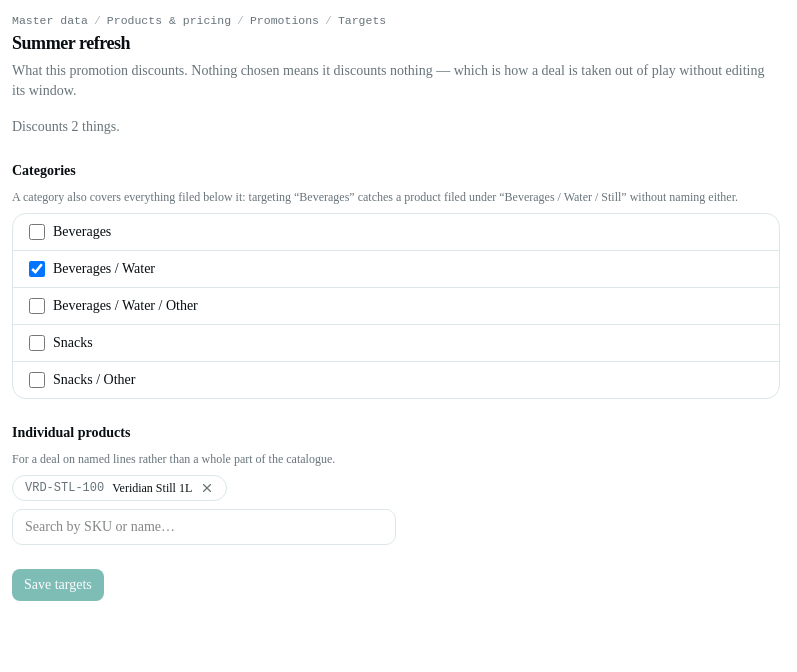
it: <PromotionTargets> › searches the catalogue it already holds rather than asking again
expect the button "Save targets" is shown: met, box [12,569,104,601]
Type "spark" into the search field named "Search products". click: (204, 527)
box: [12,509,396,545]
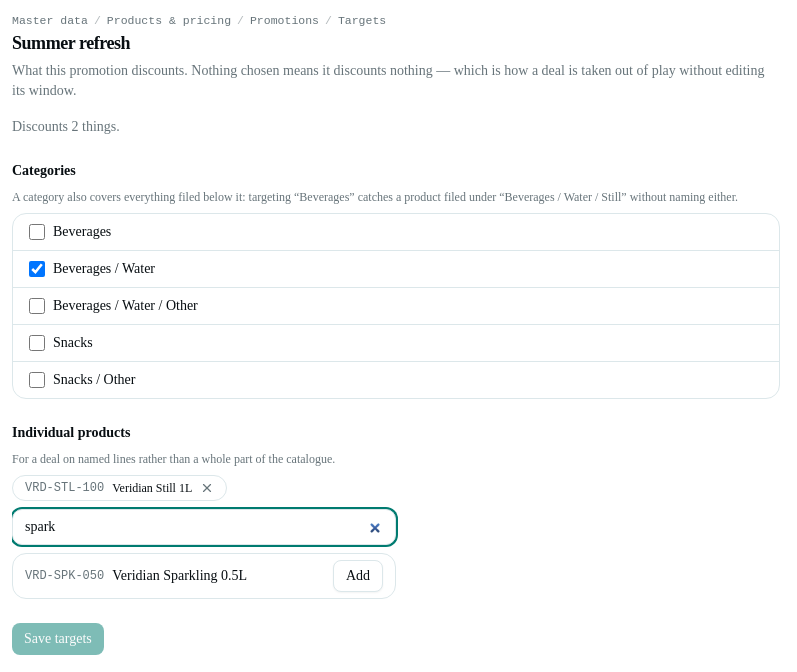
expect the button with aria-label "Add Veridian Sparkling 0.5L (VRD-SPK-050)" is shown: met, box [333,560,383,592]
